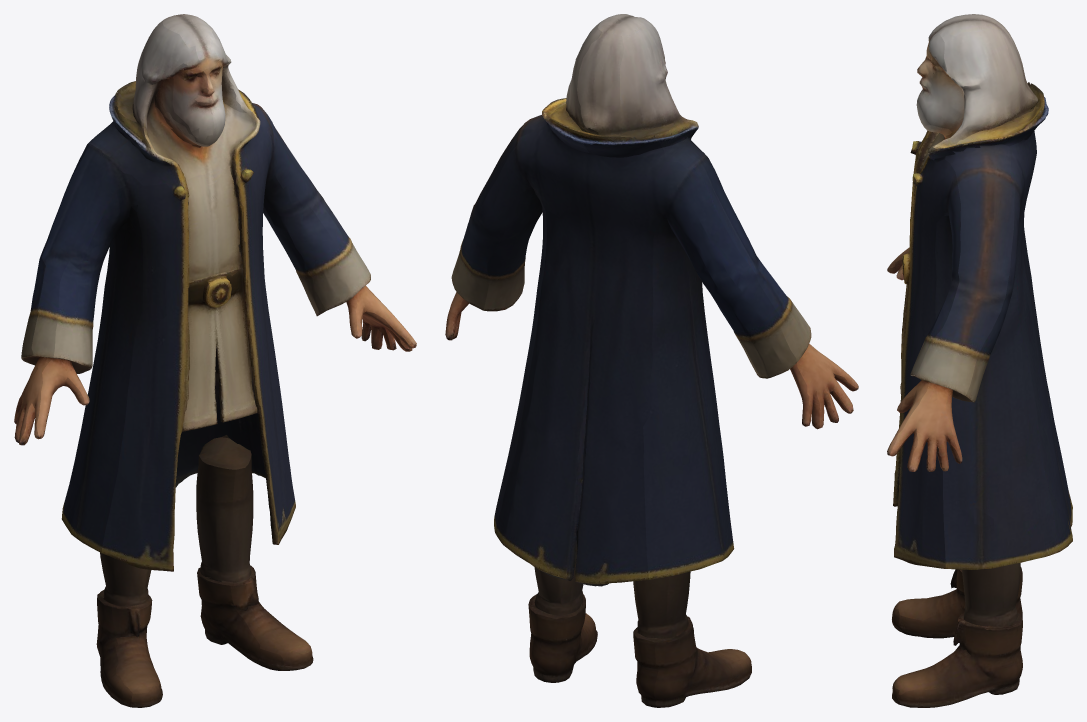
The model's file is exchange_guide.glb.
3 renders of one model, left to right at view 1: azimuth 30°, elevation 25°; view 2: azimuth 150°, elevation 25°; view 3: azimuth 270°, elevation 25°, orthographic. The views are drawn at different scales.
Parts seen in each view (by area): view 1: guideBody; view 2: guideBody; view 3: guideBody.
Part boxes in pixels (x1,y1,x2,y2): guideBody: (14, 14, 416, 707); guideBody: (445, 14, 858, 707); guideBody: (887, 14, 1072, 707).
Size of the model in its own units: 1.15 by 1.8 by 0.4709.
Materials: 1 (1 with a texture image).
